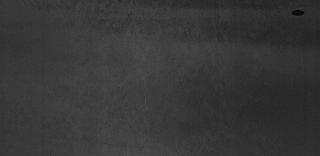punching hole: (290, 8, 306, 18)
silk spot: (164, 5, 280, 151), (48, 5, 160, 150)
